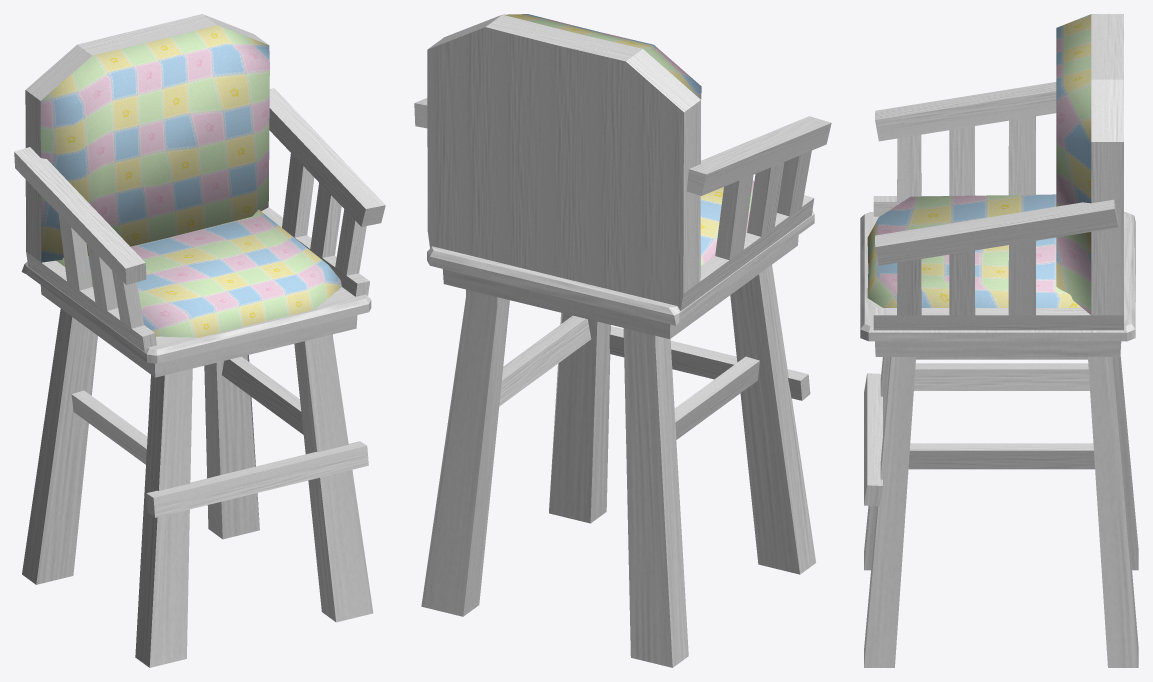
Rendered from High_Chair_C.FBX.
The picture shows the model from 3 angles, left to right: view 1: azimuth 30°, elevation 25°; view 2: azimuth 150°, elevation 25°; view 3: azimuth 270°, elevation 25°; orthographic projection. The views are drawn at different scales.
Visible parts, largest first — view 1: High_Chair; view 2: High_Chair; view 3: High_Chair.
Part boxes in pixels (x1,y1,x2,y2): High_Chair: [14, 14, 385, 667]; High_Chair: [414, 14, 831, 667]; High_Chair: [860, 14, 1138, 667].
Bounding box in the file's own units: 139 × 268 × 120.
